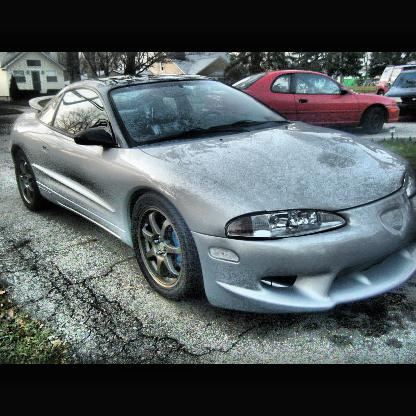Eagle Talon Hatchback 1998: (11, 75, 415, 319)
